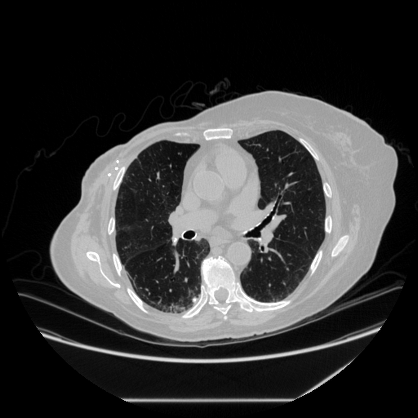nodule: (192, 297, 196, 301)
